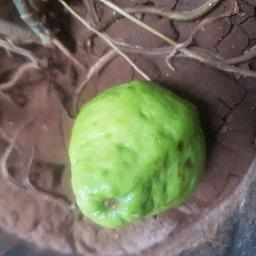Good_guava: (63, 66, 209, 235)
